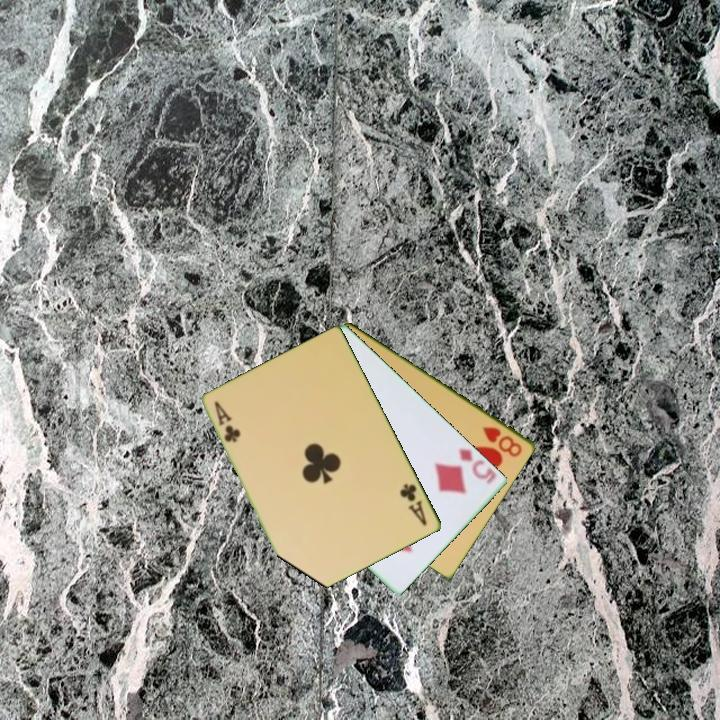5d: (456, 444, 499, 487)
8h: (479, 423, 525, 460)
Ac: (396, 480, 430, 529), (211, 398, 244, 445)
